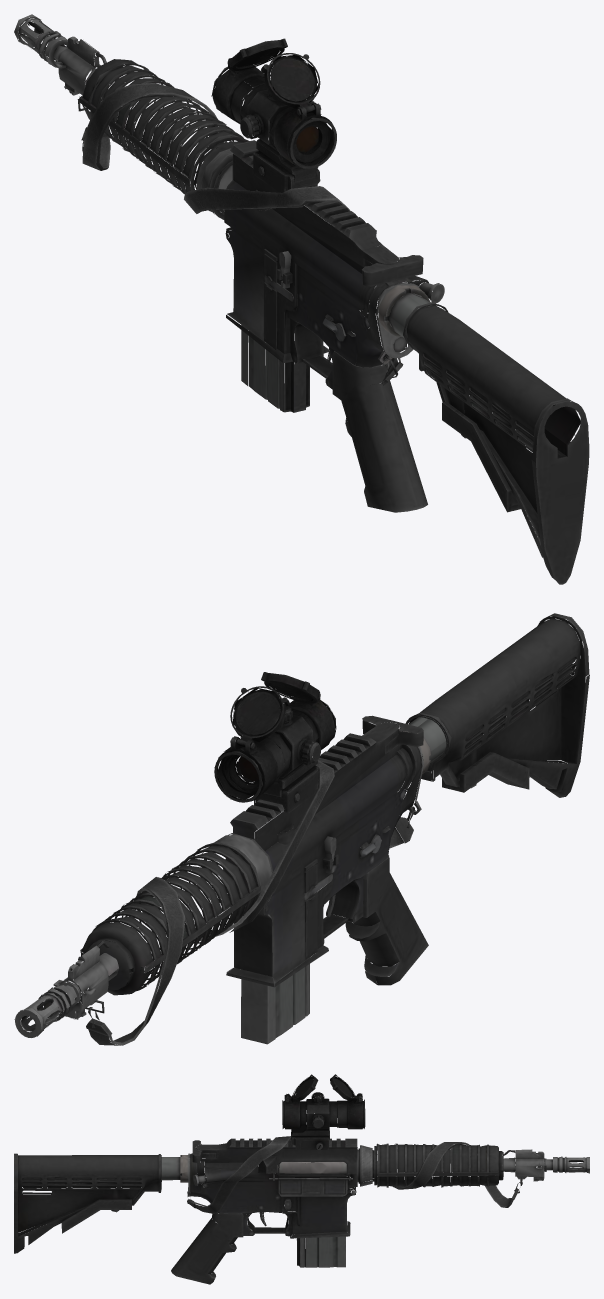
The picture shows the model from 3 angles, top to bottom: view 1: azimuth 30°, elevation 25°; view 2: azimuth 150°, elevation 25°; view 3: azimuth 270°, elevation 25°; orthographic projection. The views are drawn at different scales.
Parts seen in each view (by area): view 1: Receiver_m4_0; view 2: Receiver_m4_0; view 3: Receiver_m4_0.
Part boxes in pixels (left/top/right/bottom): Receiver_m4_0: left=14, top=14, right=589, bottom=584; Receiver_m4_0: left=14, top=613, right=589, bottom=1045; Receiver_m4_0: left=14, top=1074, right=589, bottom=1284.
Size of the model in its own units: 0.082 by 0.3291 by 0.8402.
Materials: 3 (3 with a texture image).
